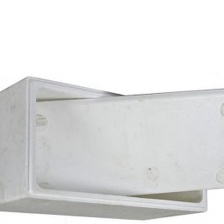foam_box: (0, 73, 224, 223)
